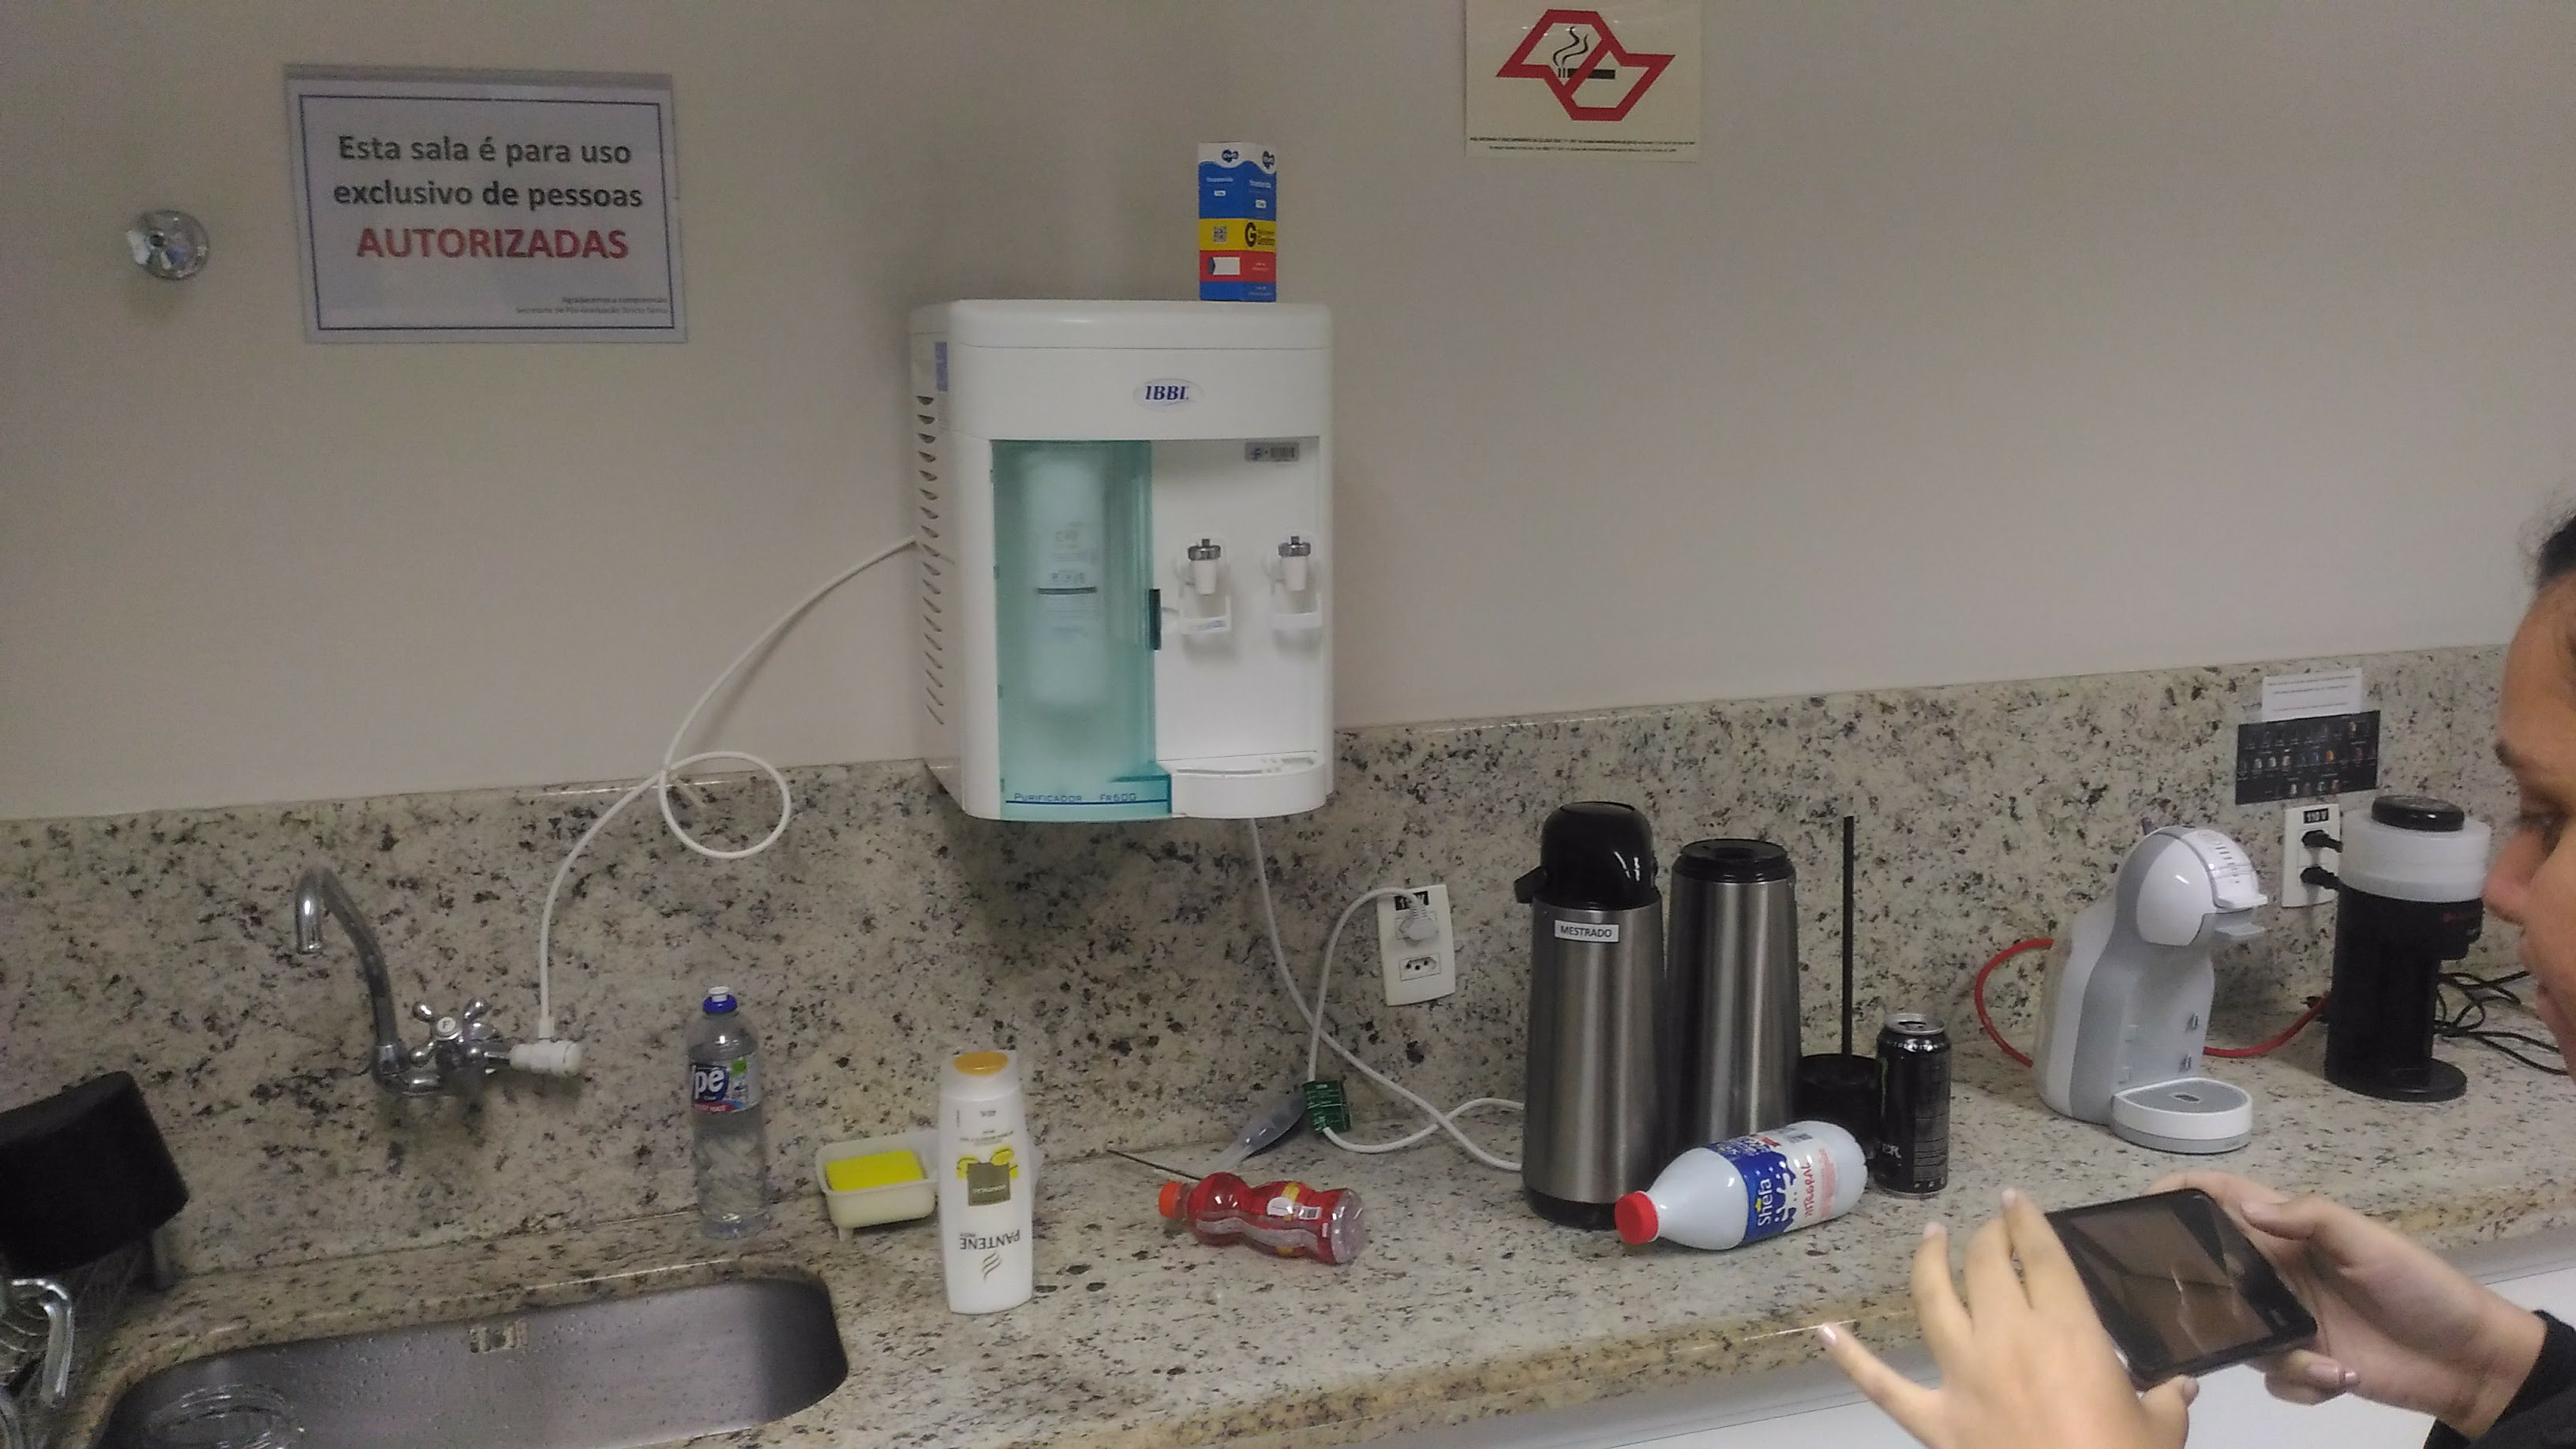iron_man: (1155, 1165, 1379, 1272)
medicine: (1188, 143, 1292, 325)
milk_bottle: (1603, 1110, 1873, 1260)
monster: (1869, 1015, 1968, 1202)
shampoo: (930, 1044, 1043, 1318)
